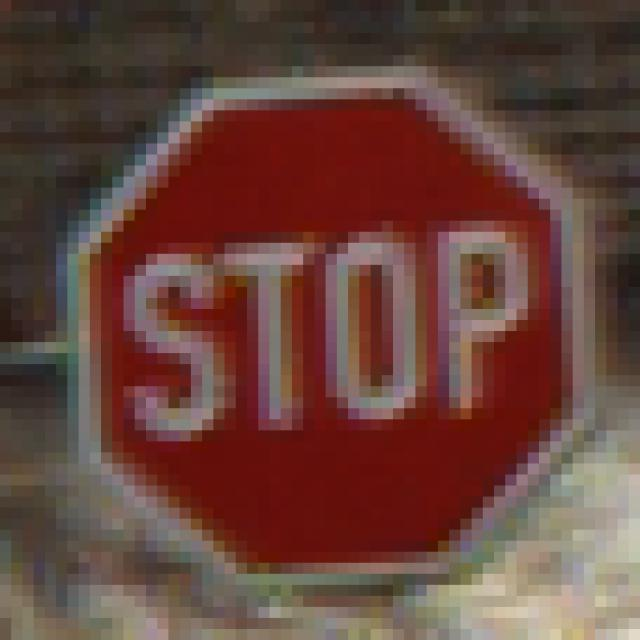STOP: (57, 67, 585, 586)
